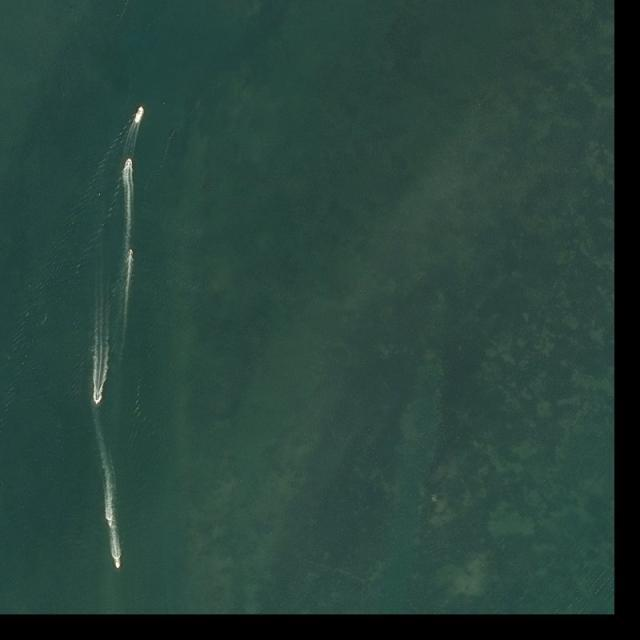ship: (134, 105, 146, 125), (114, 558, 121, 569), (95, 391, 99, 405), (107, 520, 113, 529), (128, 248, 133, 256), (128, 158, 130, 166)
